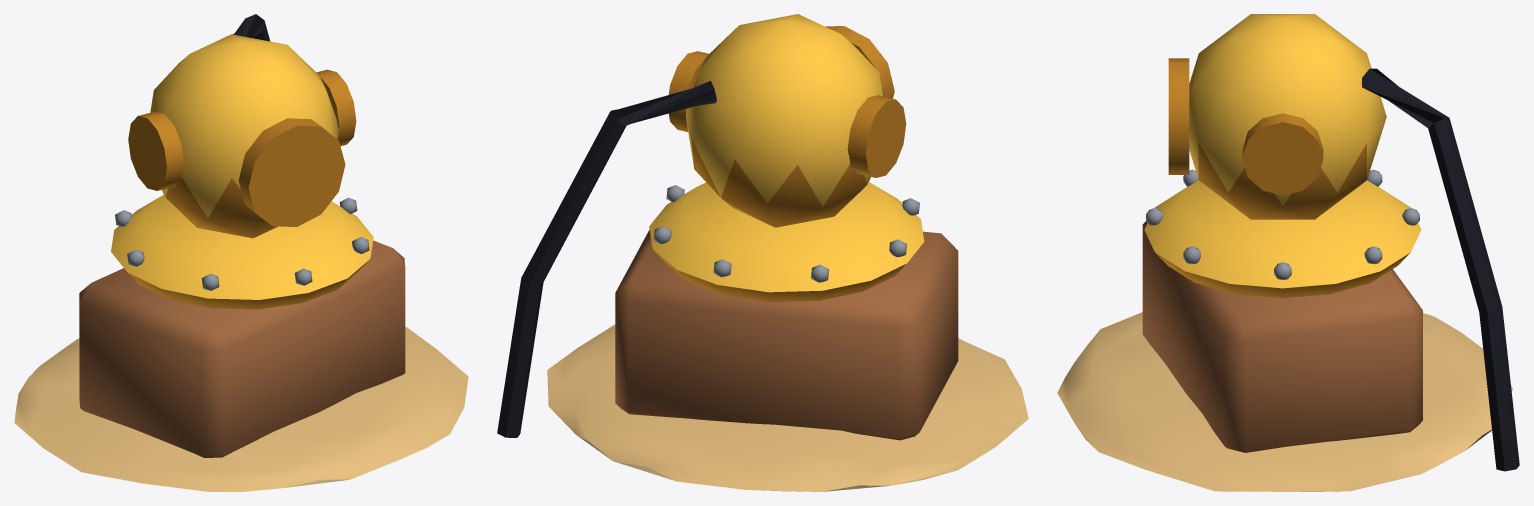
Rendered from DivingHelmet.fbx.
3 renders of one model, left to right at view 1: azimuth 30°, elevation 25°; view 2: azimuth 150°, elevation 25°; view 3: azimuth 270°, elevation 25°, orthographic. The views are drawn at different scales.
Visible parts, largest first — view 1: DivingHelmet; view 2: DivingHelmet; view 3: DivingHelmet.
Boxes of the visible parts, bbox=[...] form: DivingHelmet: bbox=[14, 14, 468, 491]; DivingHelmet: bbox=[497, 14, 1028, 491]; DivingHelmet: bbox=[1057, 14, 1519, 491].
Bounding box in the file's own units: 1.38 × 1.19 × 1.34.
1 material, 1 textured.
